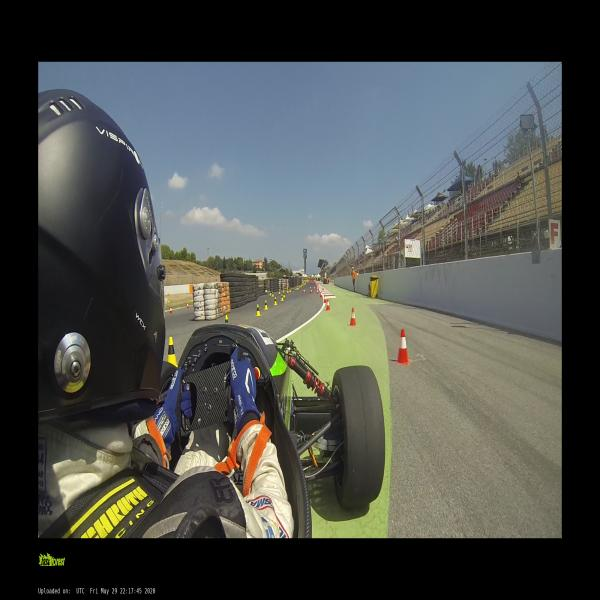orange_cone: (394, 329, 411, 365), (348, 308, 357, 326), (325, 300, 331, 310), (323, 295, 327, 303), (169, 306, 172, 314), (320, 291, 323, 298), (303, 289, 306, 294), (187, 302, 189, 308), (309, 286, 312, 290), (310, 289, 312, 294), (313, 285, 315, 290), (317, 289, 318, 295)
yellow_cone: (169, 337, 177, 368), (255, 304, 261, 316), (264, 300, 268, 310), (225, 315, 229, 323), (280, 294, 284, 301), (274, 297, 277, 305), (272, 292, 274, 297), (283, 293, 285, 298), (278, 289, 280, 294), (270, 292, 272, 296)
